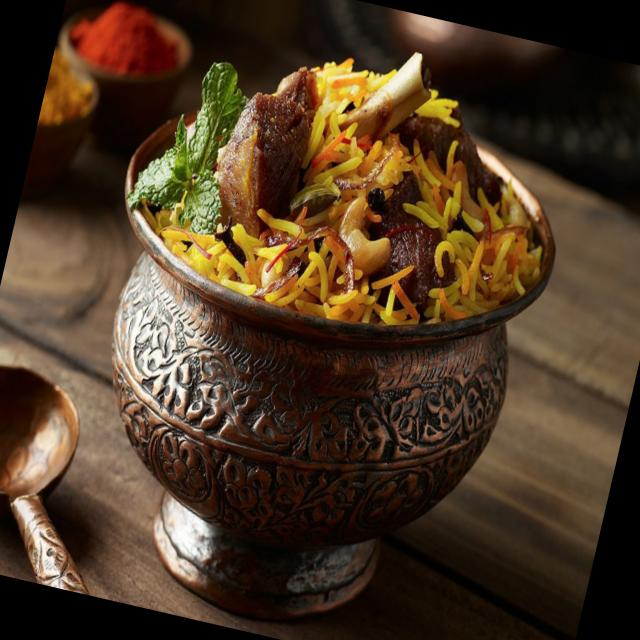Biryani: (115, 0, 584, 362)
